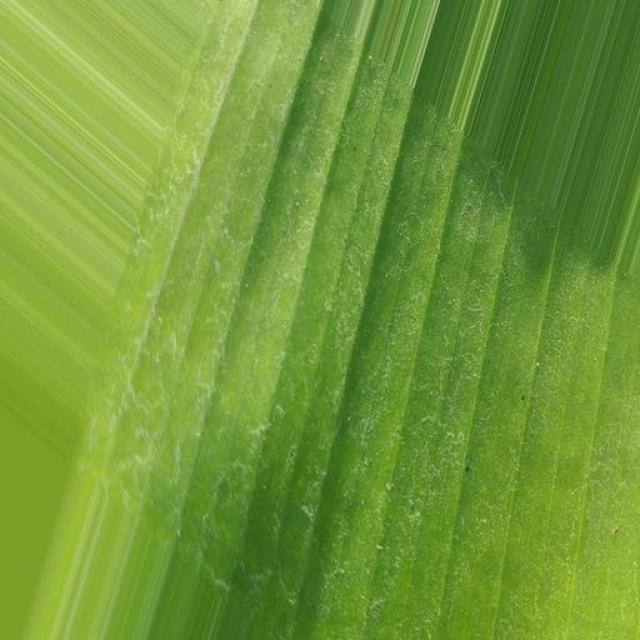Black_leaf_spot: (79, 13, 640, 640)
